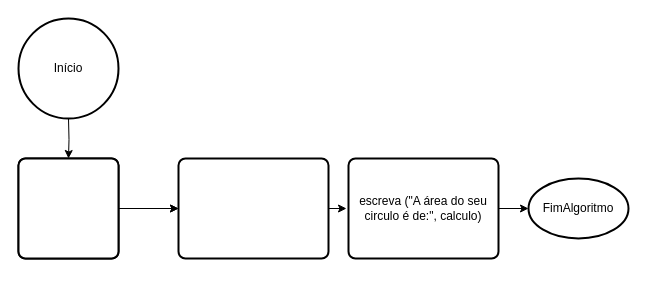
This 646x285 diagram has some shape labels left out. Each missing label, with the box of its shape:
calculo<- base * altura: (177, 157, 329, 259)
var base,altura, calculo,area: real: (17, 157, 119, 259)
